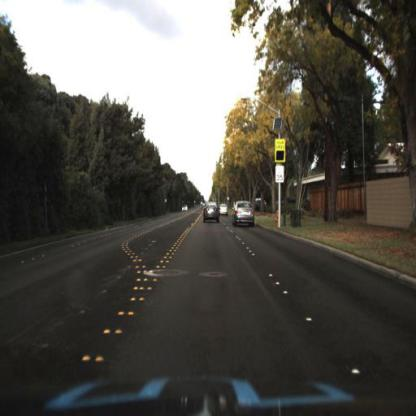car: (231, 195, 258, 228), (200, 198, 221, 223), (180, 198, 190, 216), (218, 200, 229, 216)
